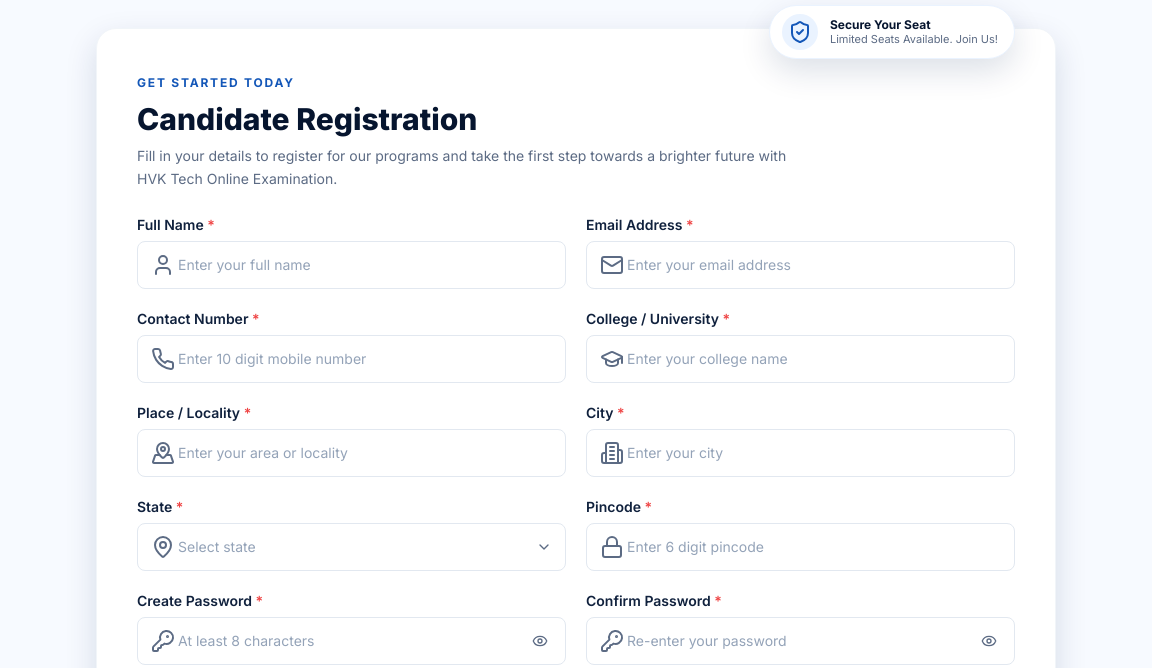
Scenario: RegistrationForm › blocks submission with client-side errors and sends nothing
Type "012345" into the field labelled "Pincode *".
click(800, 546); type("012345")  # box x1=586 y1=522 x2=1015 y2=570
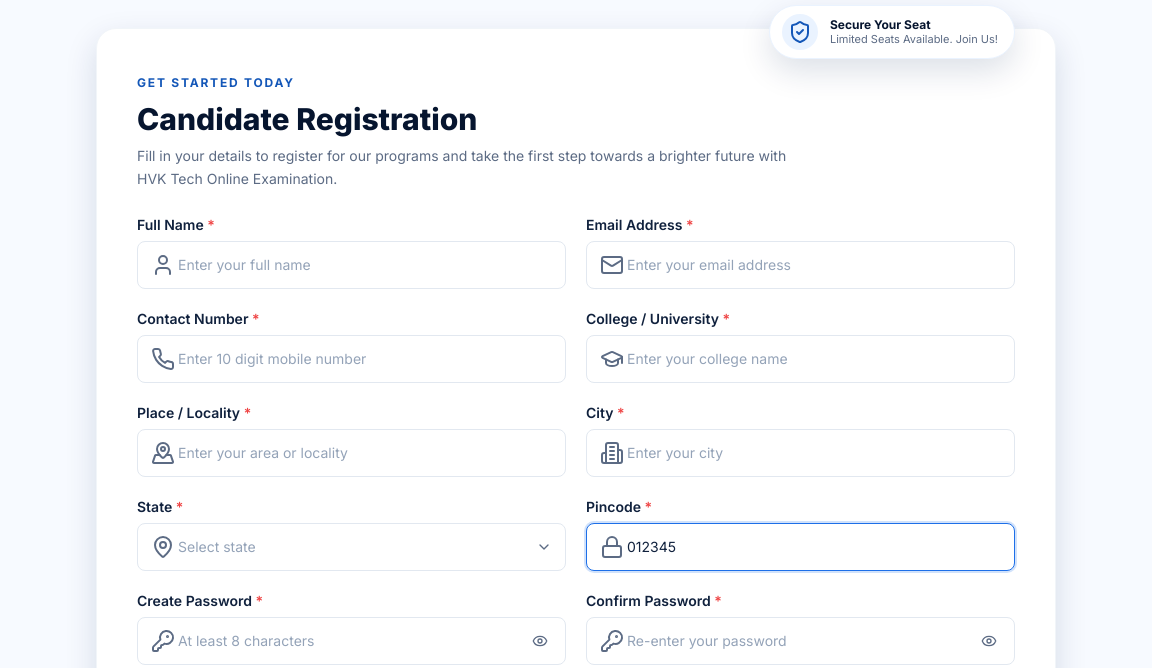
Type "short" into the password field labelled "Create Password *".
click(352, 640); type("short")  # box x1=137 y1=616 x2=566 y2=664
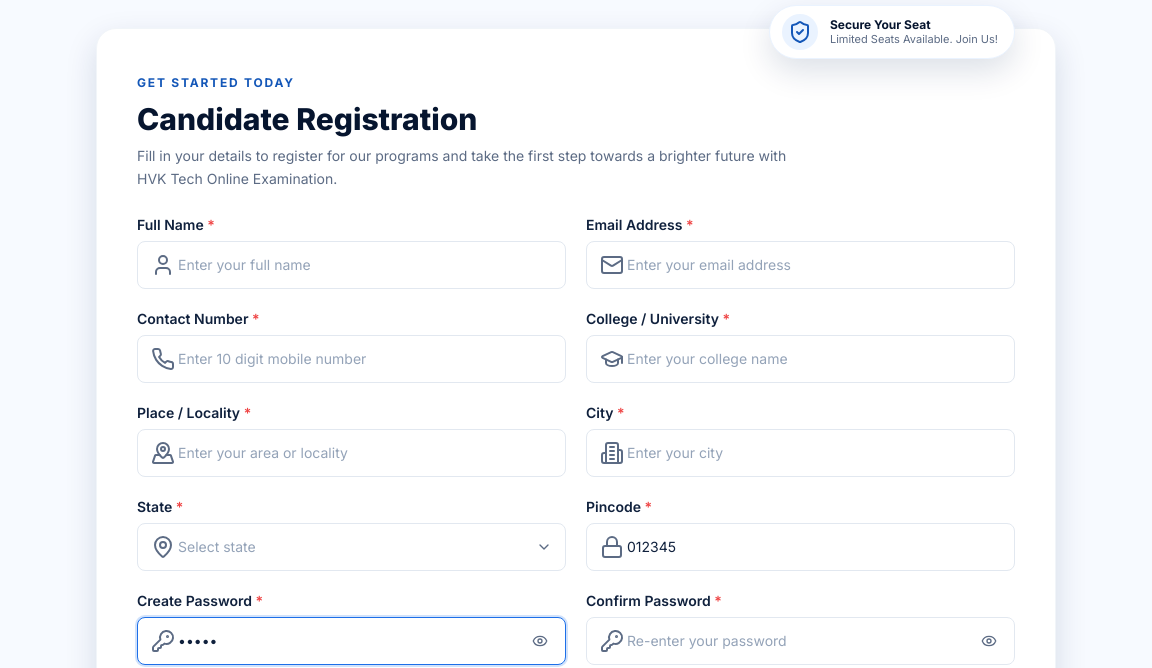
Type "different" into the password field labelled "Confirm Password *".
click(800, 640); type("different")  # box x1=586 y1=616 x2=1015 y2=664
(page scrolled)
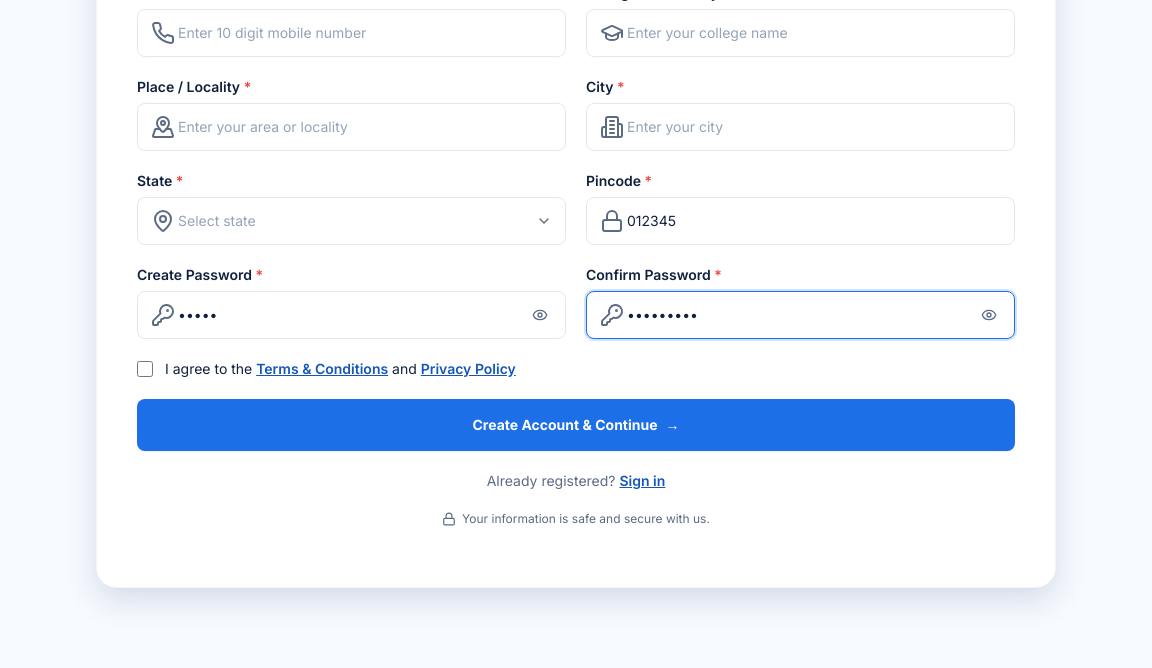
Click the button "Create Account & Continue →".
click(576, 424)  # box x1=137 y1=398 x2=1015 y2=450
(page scrolled)
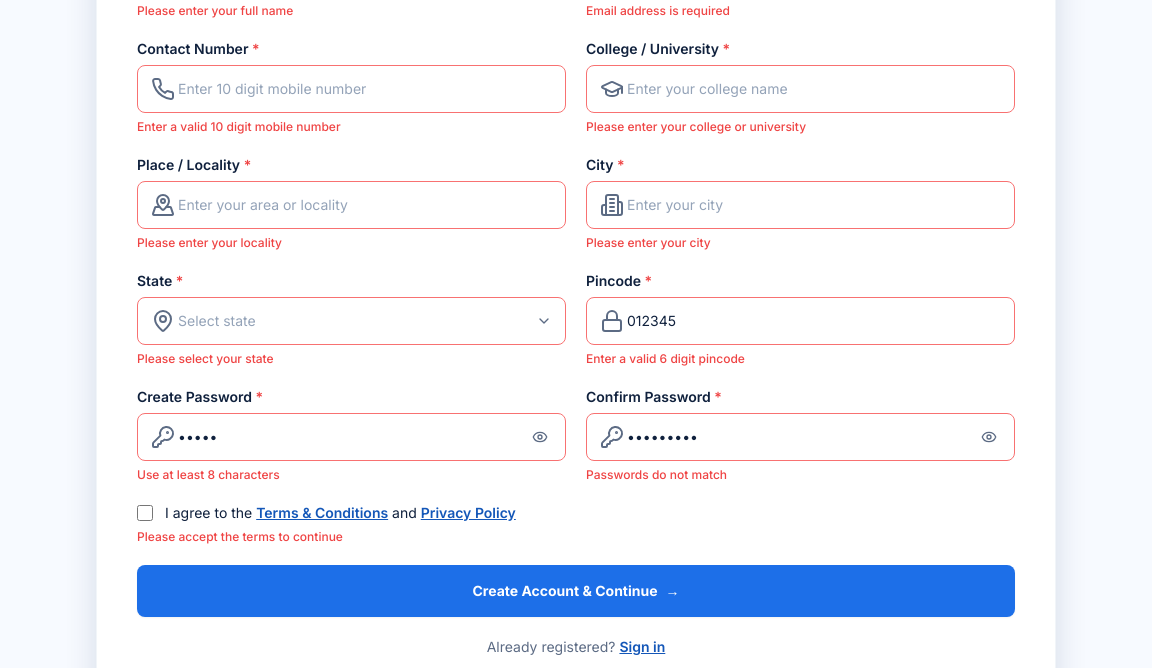
Now the text "Enter a valid 6 digit pincode" is shown, box x1=586 y1=350 x2=745 y2=366
Now the text "Use at least 8 characters" is shown, box x1=137 y1=466 x2=280 y2=482
Now the text "Passwords do not match" is shown, box x1=586 y1=466 x2=727 y2=482
